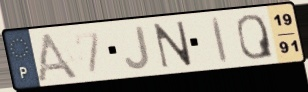7: (74, 30, 101, 75)
A: (33, 30, 82, 82)
I: (209, 14, 230, 64)
J: (123, 24, 152, 72)
N: (152, 19, 194, 70)
Q: (234, 12, 276, 61)
